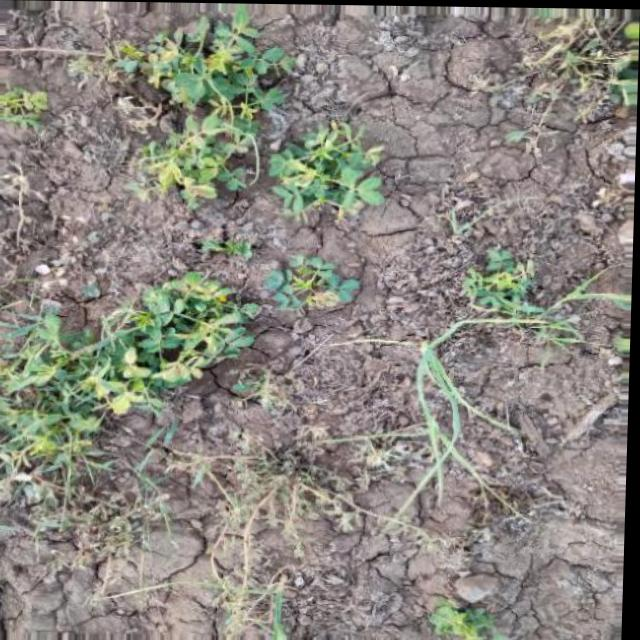weed: (76, 15, 398, 211), (0, 274, 317, 450), (487, 9, 640, 160), (444, 233, 584, 365)
